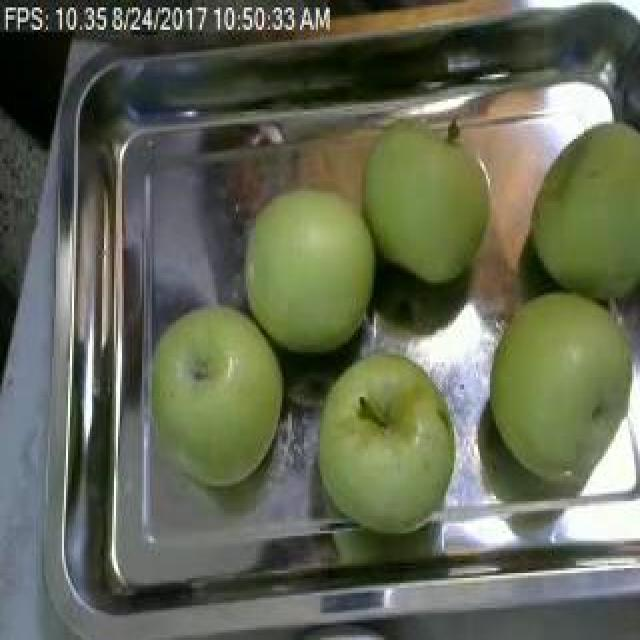Rotten Apple: (484, 288, 640, 491), (140, 309, 288, 500), (322, 351, 462, 537), (524, 106, 640, 292), (358, 114, 500, 263), (249, 195, 391, 336)
